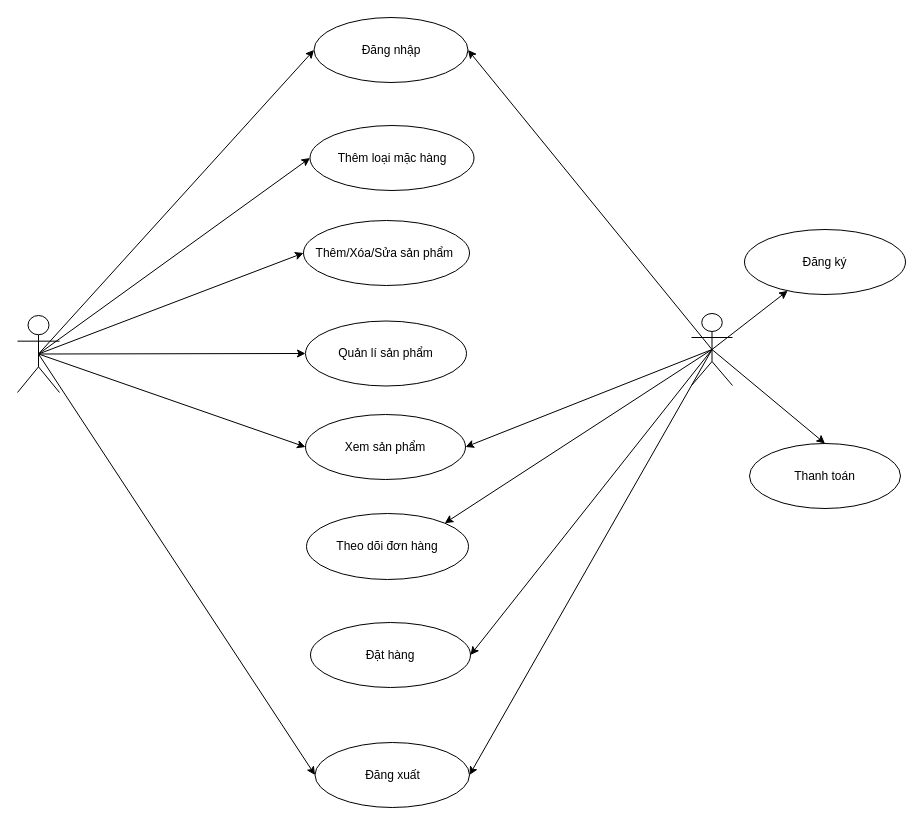
The diagram is 923 pixels wide and 825 high, and some of its shapes have lost their labels. The shapes that lost their labels are listed below. From the top down, each one's box as (x1, y1, x2, y2) in pixels, then its label:
(16, 314, 60, 392): admin
(690, 312, 732, 386): user
